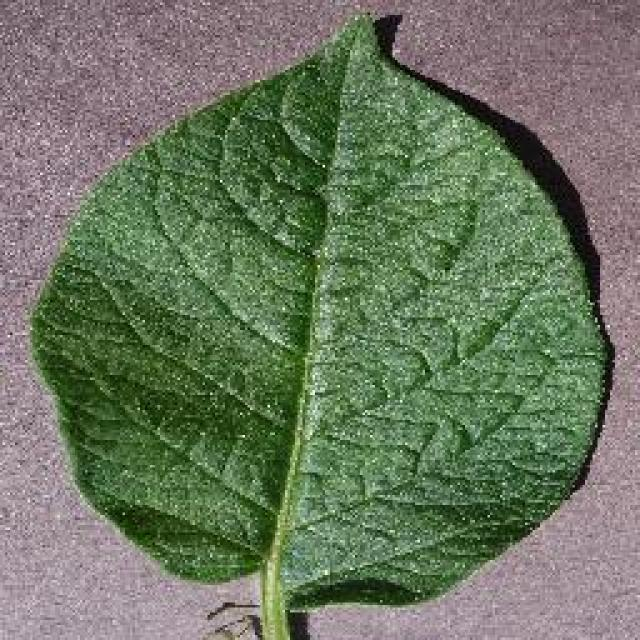Potato___healthy: (22, 10, 618, 638)
